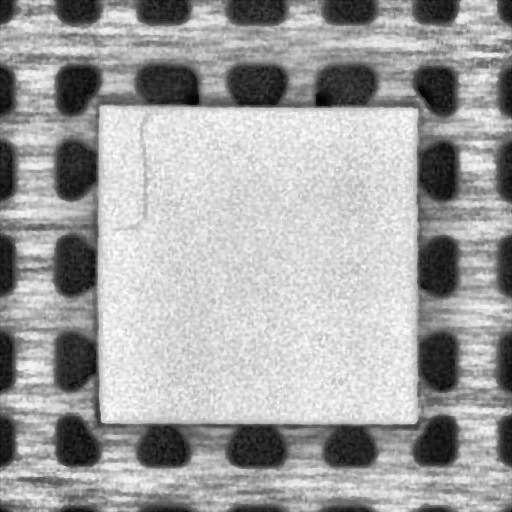DIE_CRACK: (108, 112, 156, 234)
